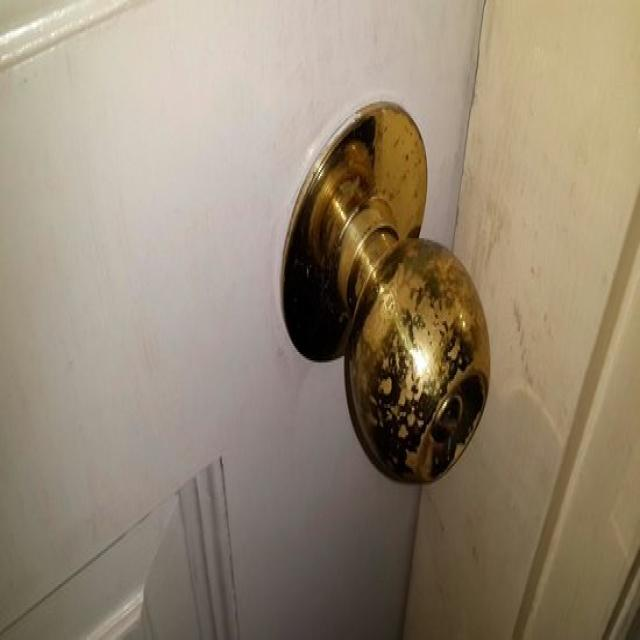door-knob: (283, 102, 489, 483)
